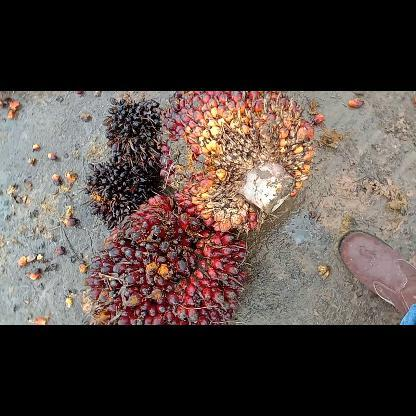TBS abnormal: (81, 158, 159, 230), (100, 94, 164, 170)
TBS masak: (156, 90, 318, 240), (82, 191, 254, 324)
